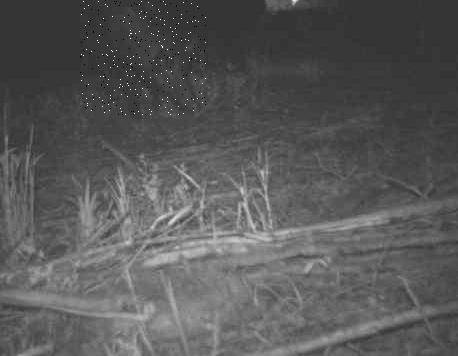Hog: (79, 0, 206, 116)
